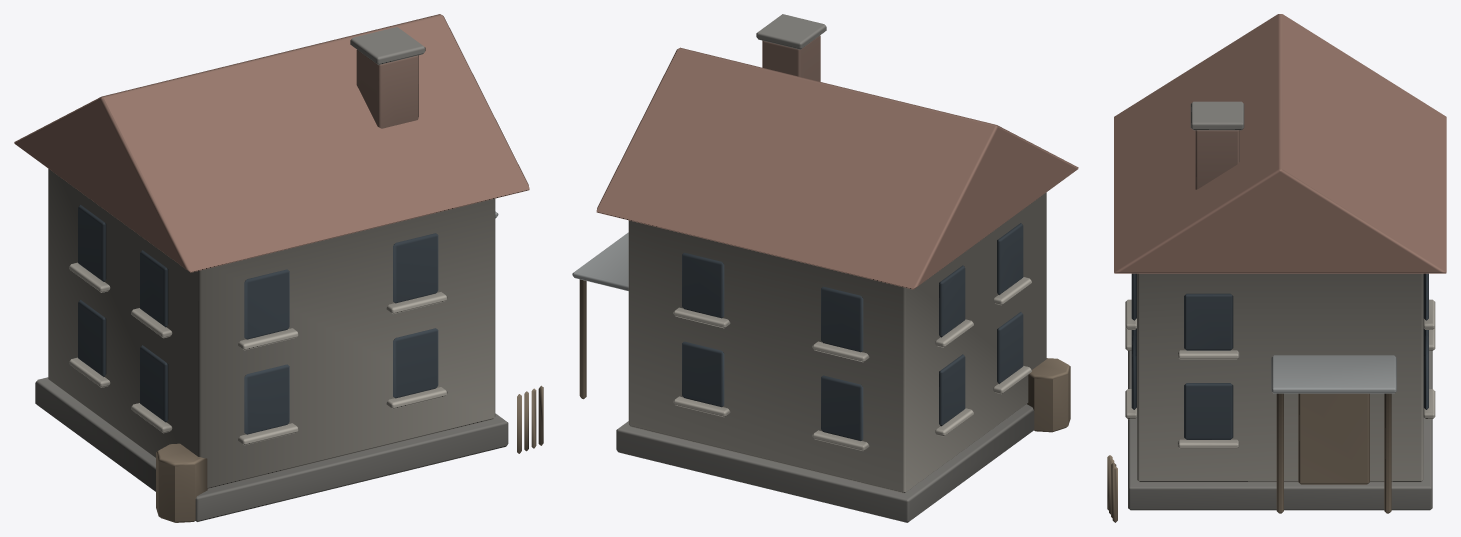
File: civilian_house.glb
3 views of the same model, side by side, from view 1: azimuth 30°, elevation 25°; view 2: azimuth 150°, elevation 25°; view 3: azimuth 270°, elevation 25° (orthographic). The views are drawn at different scales.
Visible parts, largest first — view 1: Body; view 2: Body; view 3: Body.
Boxes of the visible parts, bbox=[...] form: Body: bbox=[14, 14, 543, 522]; Body: bbox=[572, 14, 1078, 522]; Body: bbox=[1107, 14, 1446, 522].
Bounding box in the file's own units: 4.88 × 4.5 × 3.79.
